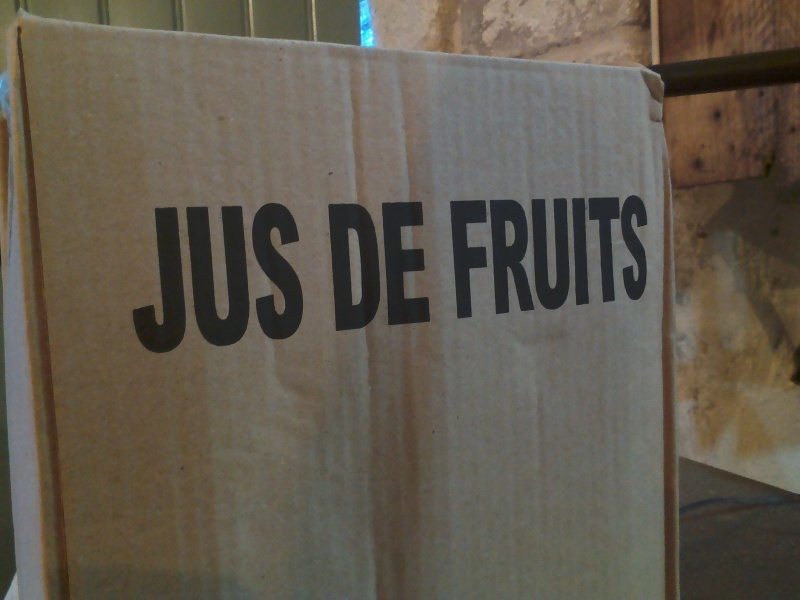text: (129, 202, 144, 358), (145, 202, 160, 358), (161, 202, 176, 358), (177, 202, 192, 358), (193, 202, 208, 358), (209, 202, 224, 358), (225, 202, 240, 358), (241, 202, 256, 358), (257, 202, 272, 358), (273, 202, 288, 358), (289, 202, 304, 358), (337, 199, 352, 334), (353, 199, 368, 334), (369, 199, 384, 334), (385, 199, 400, 334), (401, 199, 416, 334), (417, 199, 432, 334), (449, 194, 464, 320), (465, 194, 480, 320), (481, 194, 496, 320), (497, 194, 512, 320), (513, 194, 528, 320), (529, 194, 544, 320), (545, 194, 560, 320), (561, 194, 576, 320), (577, 194, 592, 320), (593, 194, 608, 320), (609, 194, 624, 320), (625, 194, 640, 320), (641, 194, 655, 320), (325, 199, 336, 334), (124, 202, 128, 358), (305, 202, 309, 358), (433, 199, 435, 334), (447, 194, 448, 320)
